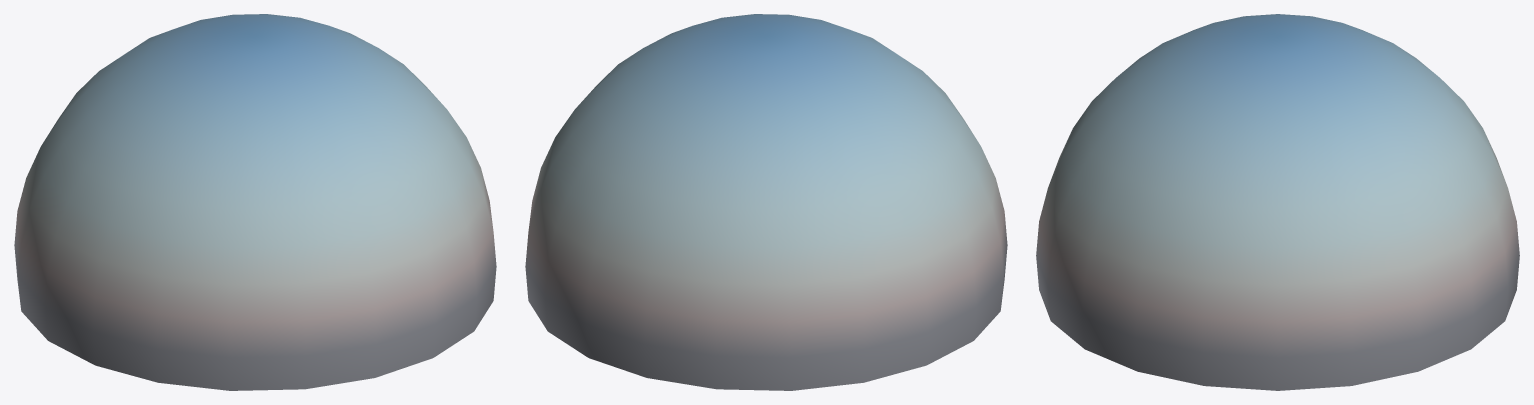
File: S_Sky_Winter.fbx
3 views of the same model, side by side, from view 1: azimuth 30°, elevation 25°; view 2: azimuth 150°, elevation 25°; view 3: azimuth 270°, elevation 25° (orthographic).
Visible parts, largest first — view 1: Sky_Winter_GEO; view 2: Sky_Winter_GEO; view 3: Sky_Winter_GEO.
Part boxes in pixels (left/top/right/bottom): Sky_Winter_GEO: left=14, top=14, right=496, bottom=390; Sky_Winter_GEO: left=525, top=14, right=1007, bottom=390; Sky_Winter_GEO: left=1036, top=14, right=1519, bottom=390.
Size of the model in its own units: 585 by 338 by 585.
